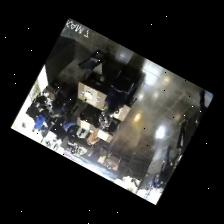person: (160, 146, 179, 186), (53, 119, 77, 141), (197, 89, 207, 126), (33, 109, 48, 131), (99, 111, 113, 129), (152, 174, 161, 190), (35, 96, 47, 106)
